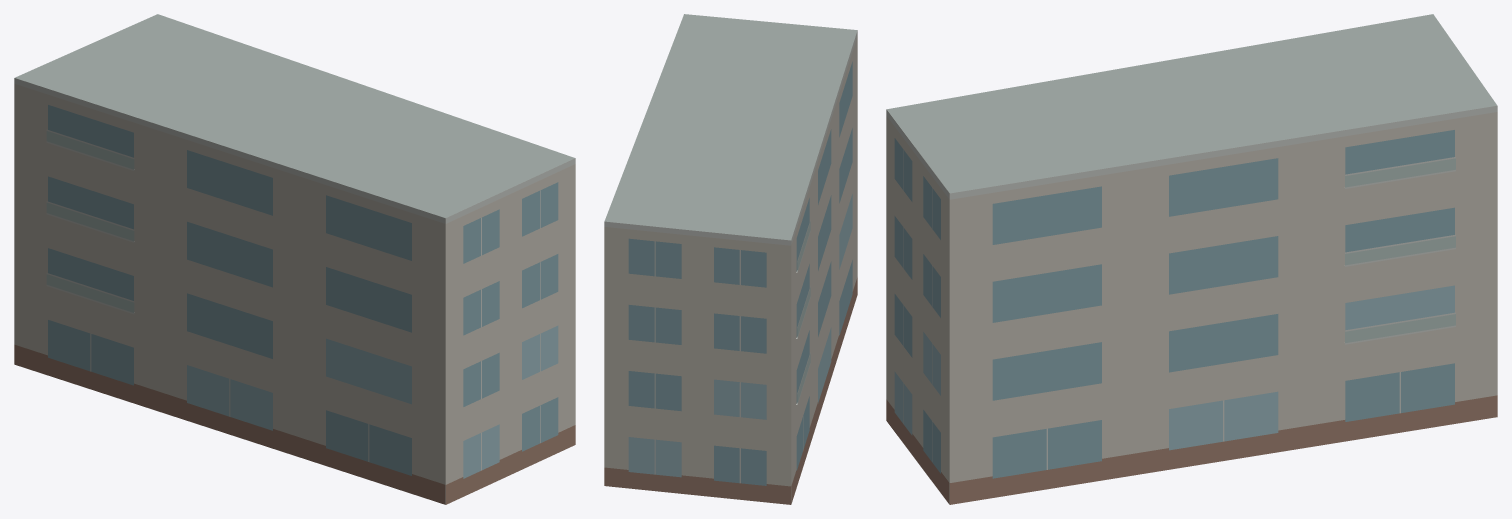
The model's file is survey-upis-32962114.glb.
3 views of the same model, side by side, from view 1: azimuth 30°, elevation 25°; view 2: azimuth 150°, elevation 25°; view 3: azimuth 270°, elevation 25° (orthographic). The views are drawn at different scales.
Visible parts, largest first — view 1: survey-upis-32962114.tmp; view 2: survey-upis-32962114.tmp; view 3: survey-upis-32962114.tmp.
Boxes of the visible parts, x1=… form: survey-upis-32962114.tmp: x1=14, y1=14, x2=575, y2=504; survey-upis-32962114.tmp: x1=604, y1=14, x2=857, y2=504; survey-upis-32962114.tmp: x1=886, y1=14, x2=1497, y2=504.
Size of the model in its own units: 15.09 by 12.2 by 21.71.
